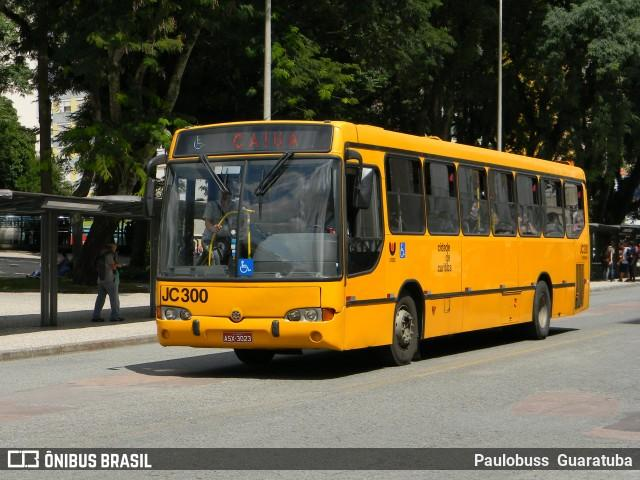CAIUA: (225, 129, 303, 153)
